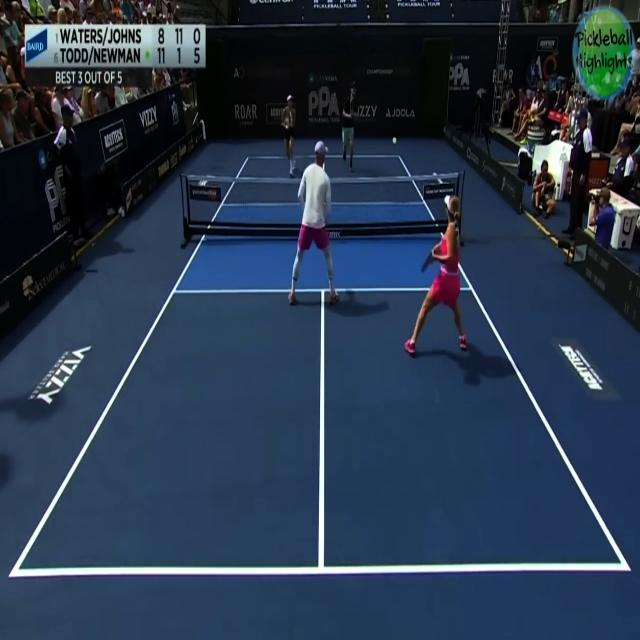Pickleball: (391, 134, 397, 146)
